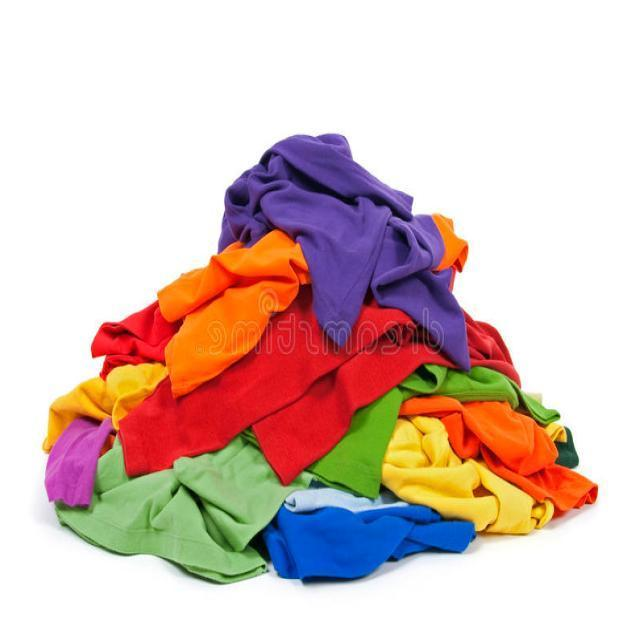clothes: (152, 197, 496, 584)
